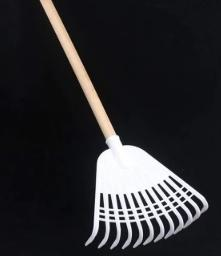RATEAU: (0, 5, 213, 254)
